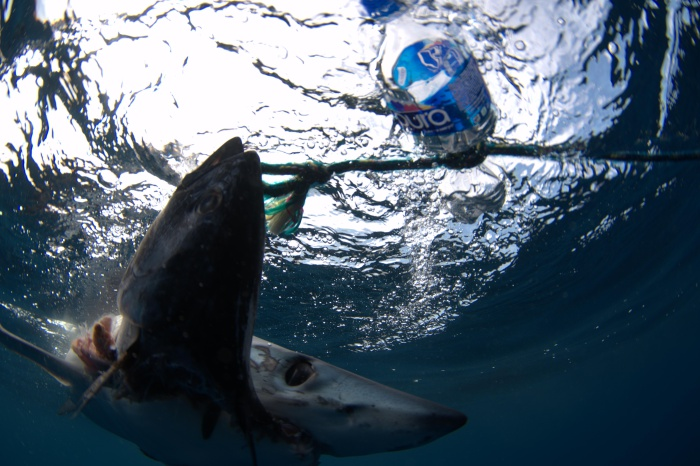Mako: (1, 306, 502, 465)
